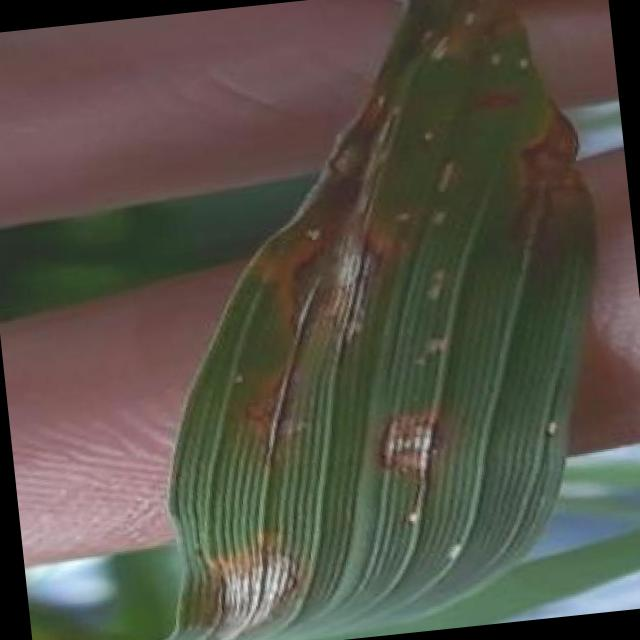Rice_Blast: (268, 152, 450, 364), (459, 105, 602, 256), (178, 523, 336, 640), (343, 381, 460, 497), (230, 365, 328, 468)
